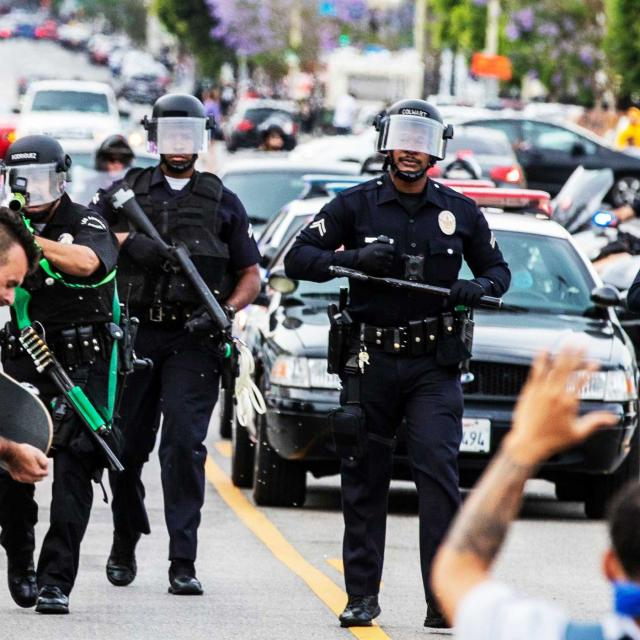police: (298, 90, 520, 636), (82, 87, 274, 603), (0, 129, 112, 605)
